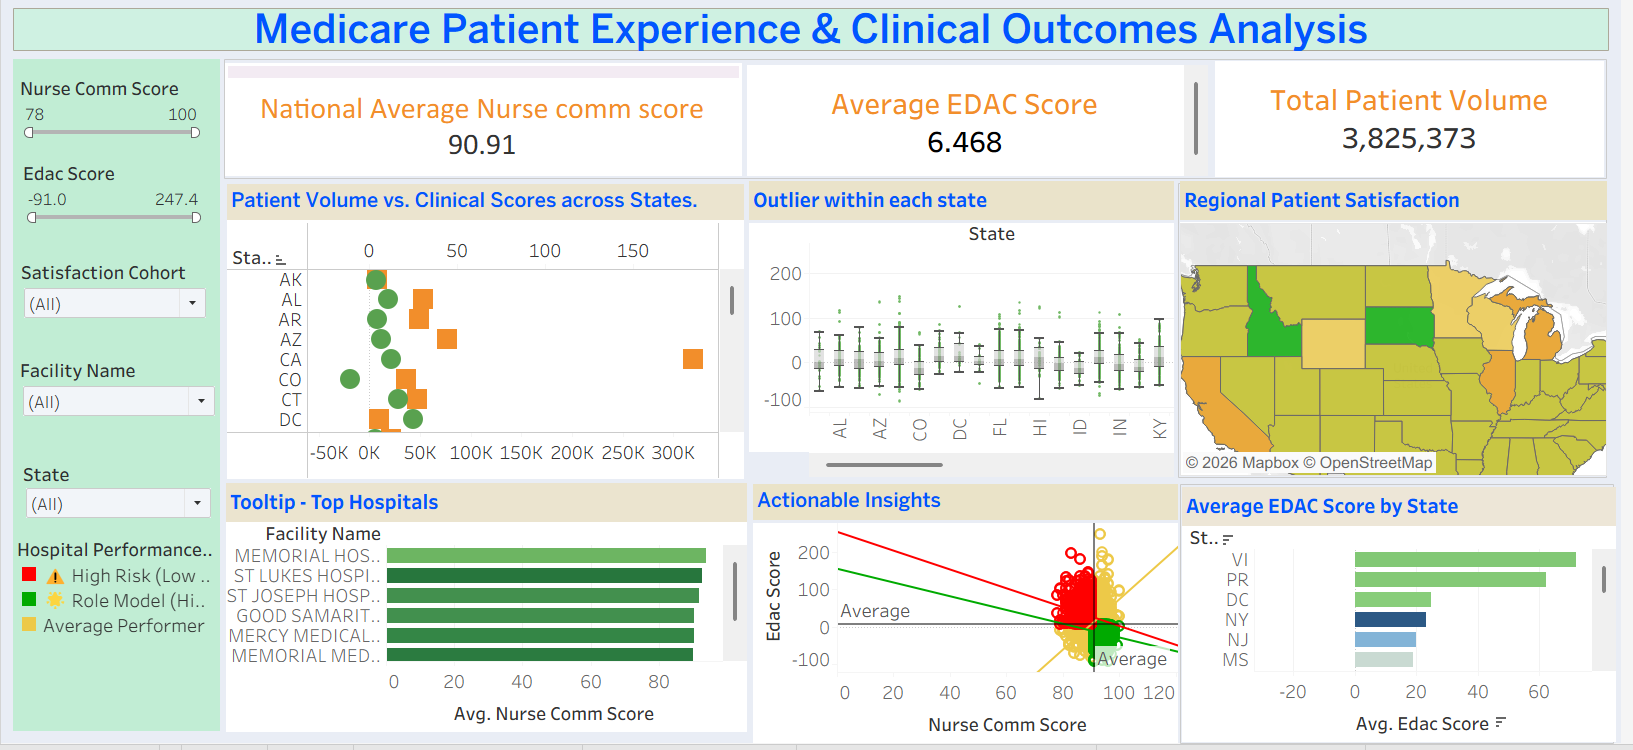

The page's visual inventory and layout, read from the dashboard file:
{"tool":"tableau","page":{"name":"Dashboard 1","canvas":[1000,1000],"units":"permille","ordinal":0},"visuals":[{"type":"title","box":[4.9,10.7,990.1,68.3]},{"type":"worksheet","title":"Acerage EDAC score","mark":"Automatic","box":[458,87,289.5,159.3]},{"type":"worksheet","title":"Sheet 8","mark":"Automatic","box":[749.4,87,240.1,158]},{"type":"worksheet","title":"KPIs","mark":"Automatic","box":[138.3,89.7,319.1,151.3]},{"type":"filter","title":"Sheet 9","param":"[federated.09ogcmb11r7ufz17b26r80m4jjyi].[none:Nurse_Comm_Score:qk]","box":[11.7,105.8,113.6,92.4]},{"type":"filter","title":"Outlier within each state","param":"[federated.09ogcmb11r7ufz17b26r80m4jjyi].[none:edac_score:qk]","box":[13.6,219.5,112.4,105.8]},{"type":"worksheet","title":"Outlier within each state","mark":"Circle","rows":["edac_score"],"cols":["State"],"box":[461.7,247.7,262.4,396.2]},{"type":"worksheet","title":"Regional Patient Satisfaction","mark":"Multipolygon","box":[727.8,247.7,263.6,394.9]},{"type":"worksheet","title":"Sheet 2","mark":"Automatic","rows":["State"],"cols":["Total_Patient_Volume","edac_score"],"box":[139.5,251.7,319.1,394.9]},{"type":"filter","title":"Regional Patient Satisfaction","param":"[federated.09ogcmb11r7ufz17b26r80m4jjyi].[none:Calculation_0645184471302144:nk]","box":[12.3,352.1,116,89.7]},{"type":"filter","title":"Tooltip - Top Hospitals","param":"[federated.09ogcmb11r7ufz17b26r80m4jjyi].[none:Facility_Name:nk]","box":[11.7,483.3,122.2,85.7]},{"type":"filter","title":"Regional Patient Satisfaction","param":"[federated.09ogcmb11r7ufz17b26r80m4jjyi].[none:State:nk]","box":[13.6,622.5,117.9,77.6]},{"type":"worksheet","title":"Tooltip - Top Hospitals","mark":"Automatic","rows":["Facility_Name"],"cols":["Nurse_Comm_Score"],"box":[138.9,651.9,321.6,333.3]},{"type":"worksheet","title":"Sheet 9","mark":"Automatic","rows":["edac_score"],"cols":["Nurse_Comm_Score"],"box":[464.2,653.3,262.4,346.7]},{"type":"worksheet","title":"Average EDAC Score by State","mark":"Automatic","rows":["State"],"cols":["edac_score"],"box":[729,657.3,267.9,341.4]},{"type":"legend","title":"Sheet 9","param":"[federated.09ogcmb11r7ufz17b26r80m4jjyi].[none:Calculation_1199616347832320:nk]","box":[9.9,722.9,122.2,187.4]}]}

Visuals, with their boxes on the dashboard's canvas, which has no fixed pixel size, in thousandths of its width and height (x1, y1, x2, y2). These are canvas units, not pixel positions in the 1633x750 screenshot, which may show the page scaled, cropped or inside an application window:
title: 5 11 995 79
"Acerage EDAC score" worksheet: 458 87 748 246
"Sheet 8" worksheet: 749 87 990 245
"KPIs" worksheet: 138 90 457 241
"Sheet 9" filter: 12 106 125 198
"Outlier within each state" filter: 14 220 126 325
"Outlier within each state" worksheet (Circle marks): 462 248 724 644
"Regional Patient Satisfaction" worksheet (Multipolygon marks): 728 248 991 643
"Sheet 2" worksheet: 140 252 459 647
"Regional Patient Satisfaction" filter: 12 352 128 442
"Tooltip - Top Hospitals" filter: 12 483 134 569
"Regional Patient Satisfaction" filter: 14 622 132 700
"Tooltip - Top Hospitals" worksheet: 139 652 460 985
"Sheet 9" worksheet: 464 653 727 1000
"Average EDAC Score by State" worksheet: 729 657 997 999
"Sheet 9" legend: 10 723 132 910
